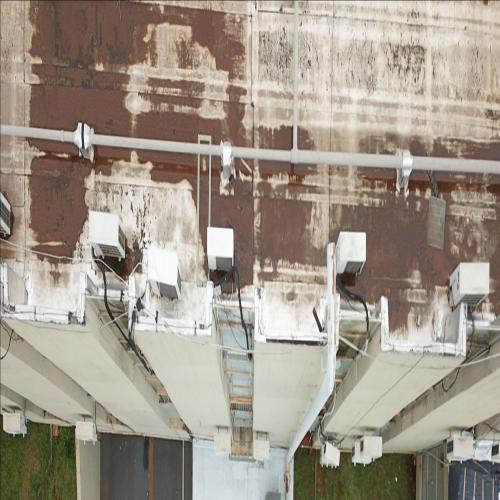conde: (446, 257, 495, 315), (334, 223, 371, 288), (87, 208, 127, 268), (147, 243, 184, 307), (207, 222, 237, 278), (2, 185, 13, 246)
